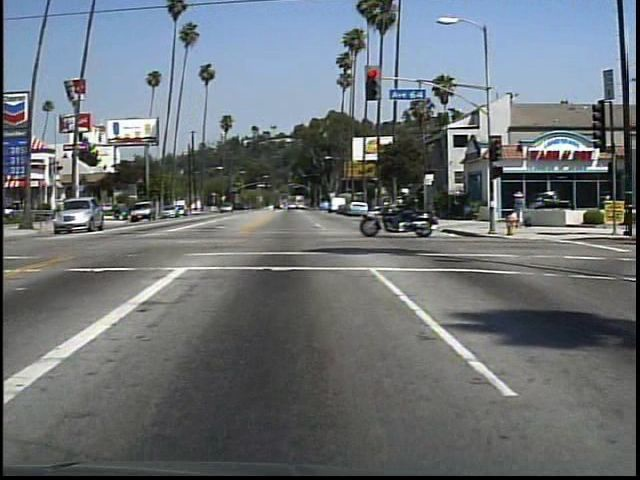person: (390, 188, 425, 234), (510, 186, 531, 219)
